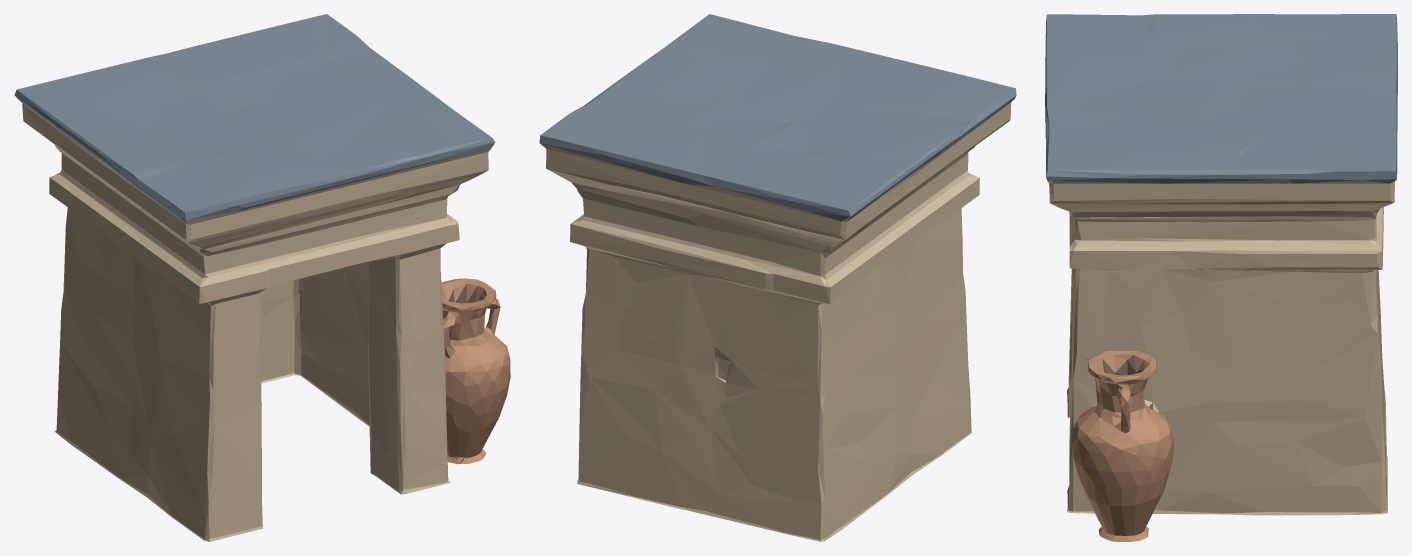
The picture shows the model from 3 angles, left to right: view 1: azimuth 30°, elevation 25°; view 2: azimuth 150°, elevation 25°; view 3: azimuth 270°, elevation 25°; orthographic projection. The views are drawn at different scales.
Visible parts, largest first — view 1: geometry_0; view 2: geometry_0; view 3: geometry_0.
Part boxes in pixels (x1,y1,x2,y2): geometry_0: (14, 14, 510, 541); geometry_0: (539, 14, 1016, 541); geometry_0: (1045, 14, 1397, 541).
Bounding box in the file's own units: 0.9172 × 0.8475 × 0.7544.
